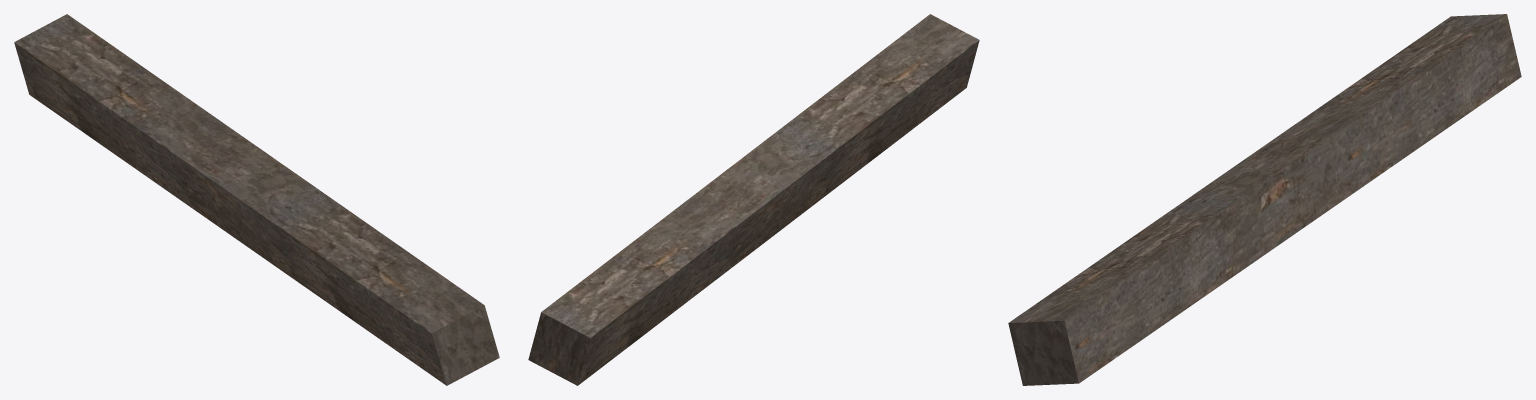
File: BoxWoodC_S.glb
3 views of the same model, side by side, from view 1: azimuth 30°, elevation 25°; view 2: azimuth 150°, elevation 25°; view 3: azimuth 330°, elevation 25° (orthographic). The views are drawn at different scales.
Visible parts, largest first — view 1: BoxWoodC_S; view 2: BoxWoodC_S; view 3: BoxWoodC_S.
Boxes of the visible parts, x1,y1,x2,y2 form: BoxWoodC_S: (14, 14, 499, 385); BoxWoodC_S: (528, 14, 979, 385); BoxWoodC_S: (1008, 14, 1521, 385).
Bounding box in the file's own units: 0.1122 × 0.1345 × 1.19.
1 material, 1 textured.
